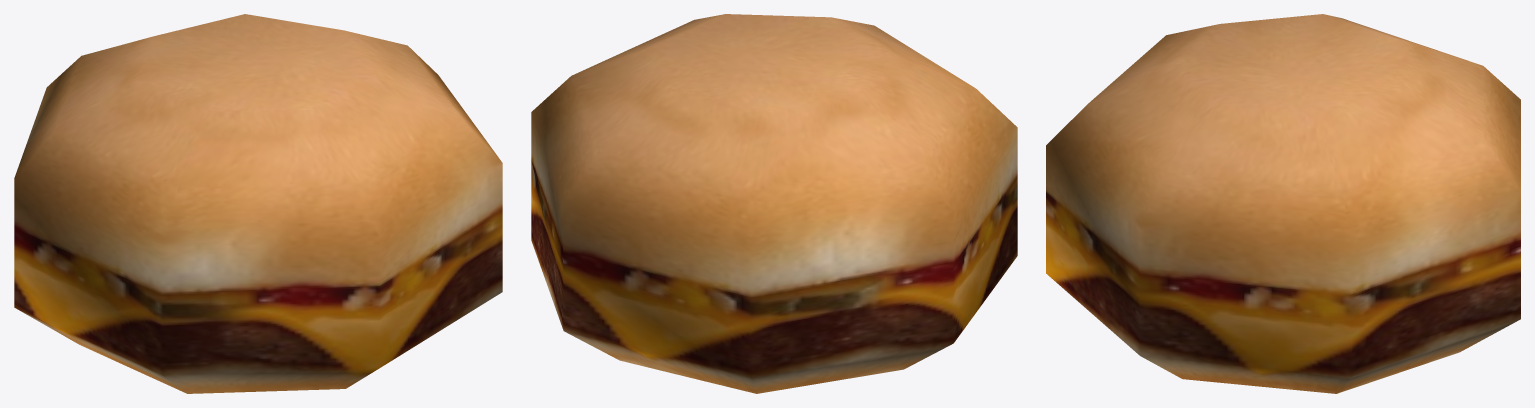
Rendered from Hamburger_02.dae.
3 renders of one model, left to right at view 1: azimuth 30°, elevation 25°; view 2: azimuth 150°, elevation 25°; view 3: azimuth 270°, elevation 25°, orthographic.
Visible parts, largest first — view 1: Hamburger_02; view 2: Hamburger_02; view 3: Hamburger_02.
Part boxes in pixels (bbox=[...]): Hamburger_02: bbox=[14, 14, 502, 393]; Hamburger_02: bbox=[531, 14, 1017, 393]; Hamburger_02: bbox=[1046, 14, 1520, 393].
Bounding box in the file's own units: 0.214 × 0.2086 × 0.1235.
Materials: 1 (1 with a texture image).
